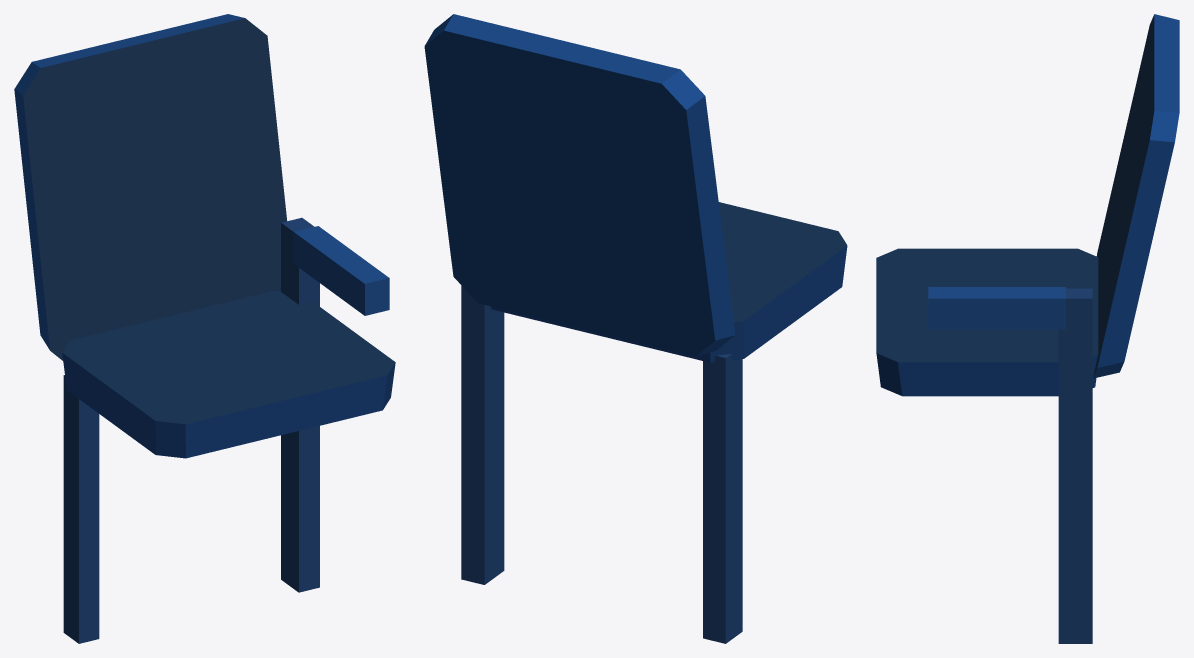
Rendered from tokyo-dome-general-seat.glb.
The picture shows the model from 3 angles, left to right: view 1: azimuth 30°, elevation 25°; view 2: azimuth 150°, elevation 25°; view 3: azimuth 270°, elevation 25°; orthographic projection. The views are drawn at different scales.
Visible parts, largest first — view 1: stand-seat; view 2: stand-seat; view 3: stand-seat.
Part boxes in pixels (x1,y1,x2,y2): stand-seat: (14,14,395,643); stand-seat: (424,14,847,643); stand-seat: (876,14,1179,643).
Bounding box in the file's own units: 0.4195 × 0.858 × 0.452.
